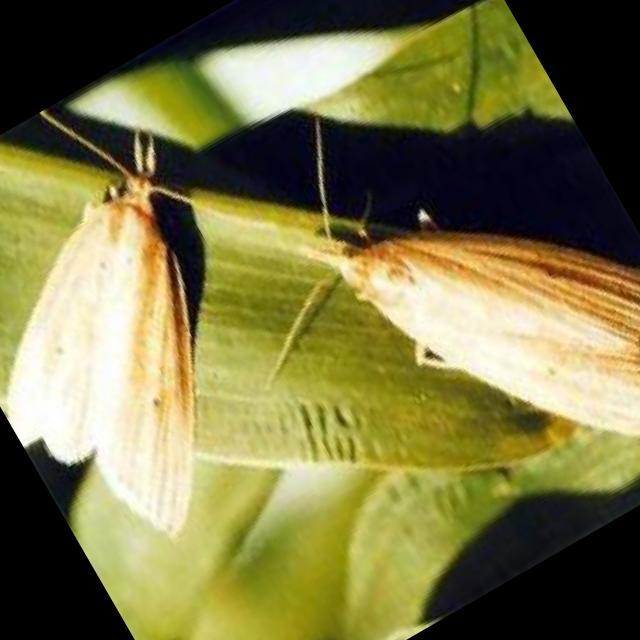stem-borer: (279, 86, 640, 560), (0, 113, 350, 585)
